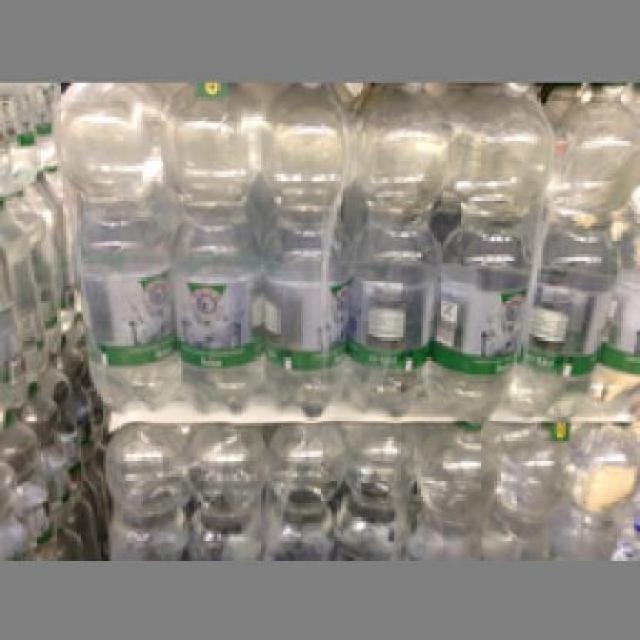Water: (505, 82, 638, 408), (428, 83, 552, 426), (52, 79, 175, 412), (157, 80, 260, 409), (259, 80, 355, 414), (348, 82, 443, 412)
